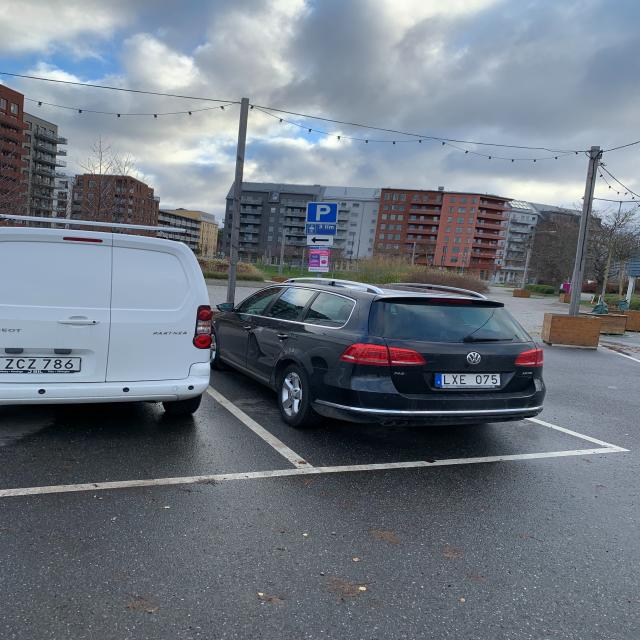psign: (307, 202, 338, 223)
